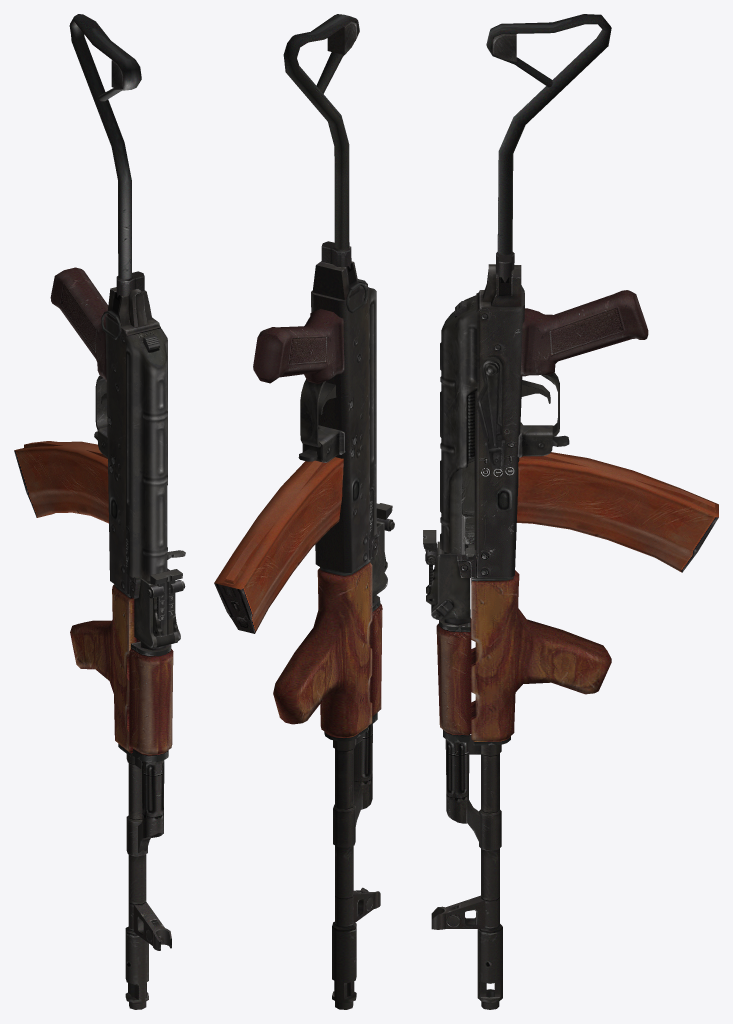
The model's file is PMmd65.FBX.
3 views of the same model, side by side, from view 1: azimuth 30°, elevation 25°; view 2: azimuth 150°, elevation 25°; view 3: azimuth 270°, elevation 25° (orthographic). The views are drawn at different scales.
Visible parts, largest first — view 1: mesh2, mesh1, mesh3; view 2: mesh2, mesh3, mesh1; view 3: mesh2, mesh1, mesh3.
Part boxes in pixels (bbox=[...]): mesh2: bbox=[50, 14, 173, 1009]; mesh1: bbox=[94, 328, 185, 648]; mesh3: bbox=[14, 441, 108, 523]; mesh2: bbox=[253, 14, 382, 1009]; mesh3: bbox=[214, 457, 343, 633]; mesh1: bbox=[298, 279, 394, 597]; mesh2: bbox=[431, 14, 648, 1009]; mesh1: bbox=[423, 295, 569, 619]; mesh3: bbox=[517, 452, 718, 572].
Bounding box in the file's own units: 0.0312 × 0.4817 × 0.1308.
